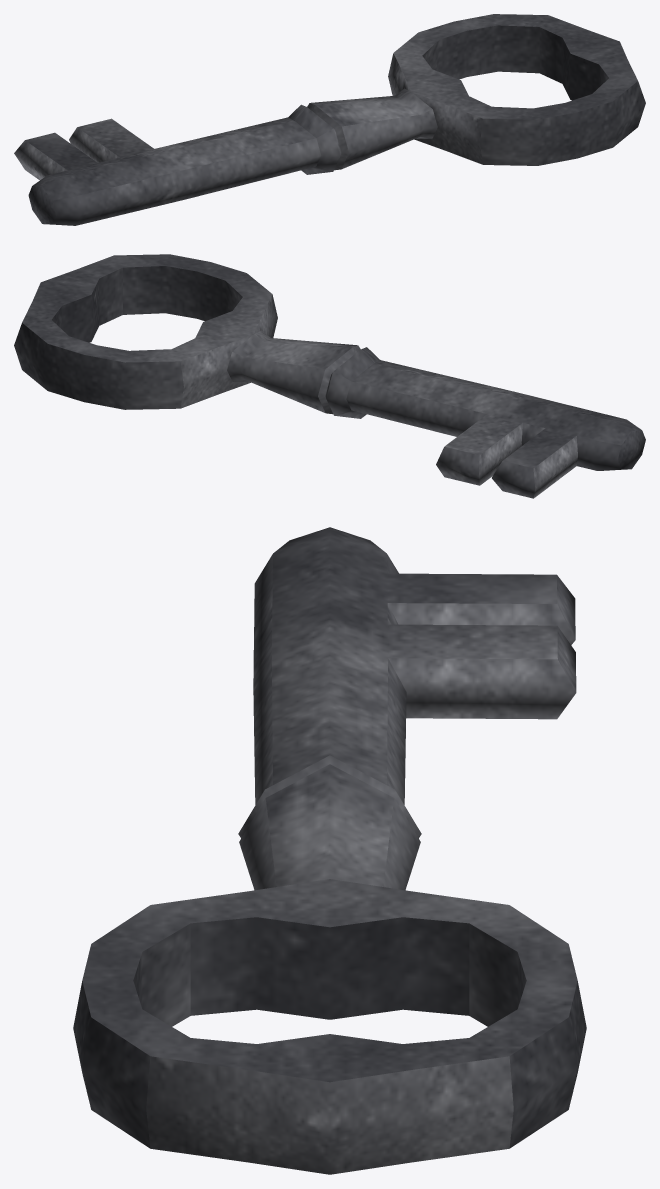
File: houseKey.fbx
The picture shows the model from 3 angles, top to bottom: view 1: azimuth 30°, elevation 25°; view 2: azimuth 150°, elevation 25°; view 3: azimuth 270°, elevation 25°; orthographic projection. The views are drawn at different scales.
Visible parts, largest first — view 1: HouseKey; view 2: HouseKey; view 3: HouseKey.
Part boxes in pixels (bbox=[...]): HouseKey: bbox=[14, 14, 645, 225]; HouseKey: bbox=[14, 254, 645, 498]; HouseKey: bbox=[73, 527, 586, 1174].
Bounding box in the file's own units: 611 × 67.18 × 230.
